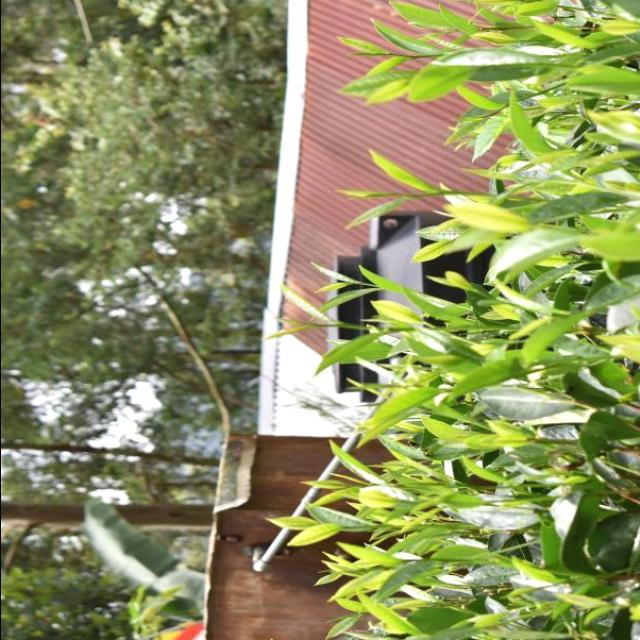Stem: (311, 324, 318, 327), (407, 195, 413, 198), (357, 282, 363, 285), (340, 526, 344, 530), (408, 55, 413, 58)
